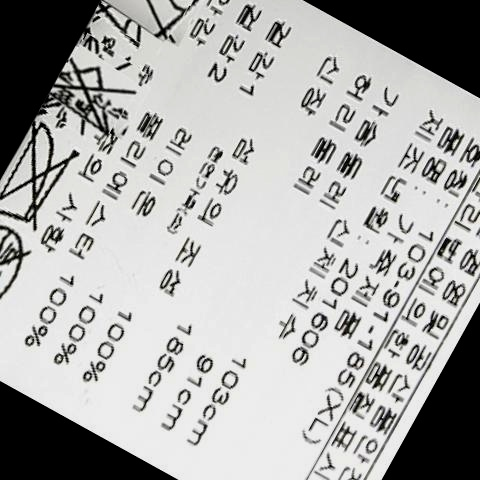DN_bleach: (49, 59, 134, 127)
DN_iron: (1, 131, 79, 223)
